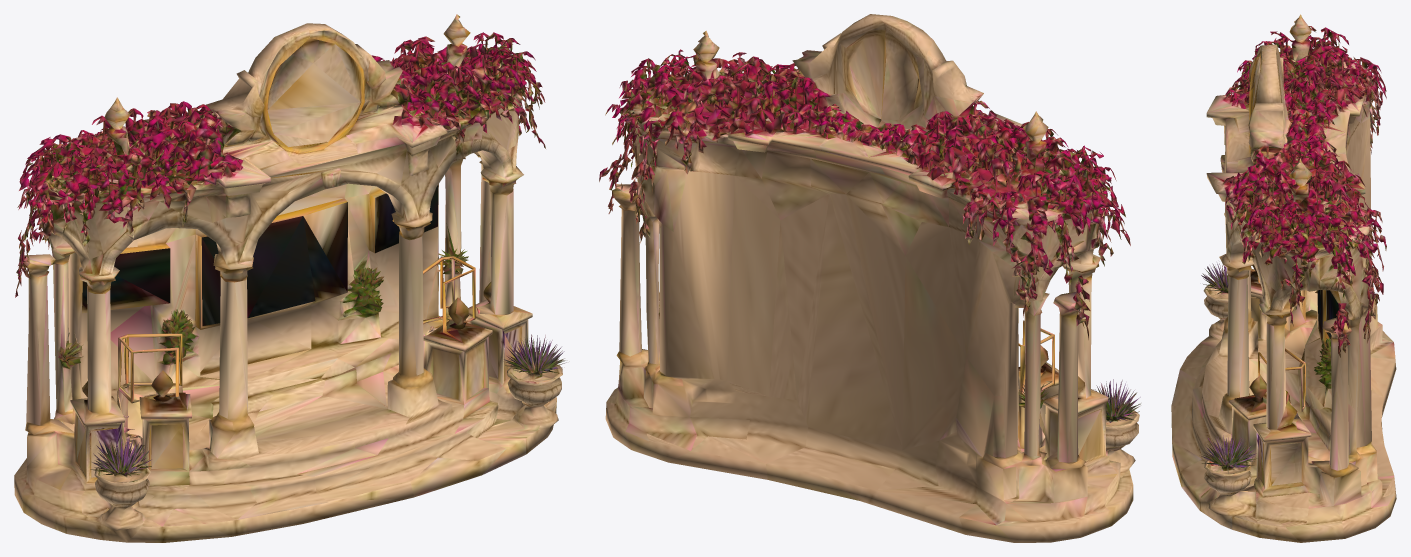
Rendered from casa-marca-lejos.glb.
The picture shows the model from 3 angles, left to right: view 1: azimuth 30°, elevation 25°; view 2: azimuth 150°, elevation 25°; view 3: azimuth 270°, elevation 25°; orthographic projection. The views are drawn at different scales.
Parts seen in each view (by area): view 1: Mesh_0; view 2: Mesh_0; view 3: Mesh_0.
Boxes of the visible parts, box(x1,y1,x2,y2) form: Mesh_0: box(14, 14, 566, 542); Mesh_0: box(599, 14, 1140, 542); Mesh_0: box(1171, 14, 1396, 542).
Bounding box in the file's own units: 1.88 × 1.53 × 0.8138.
1 material, 1 textured.
